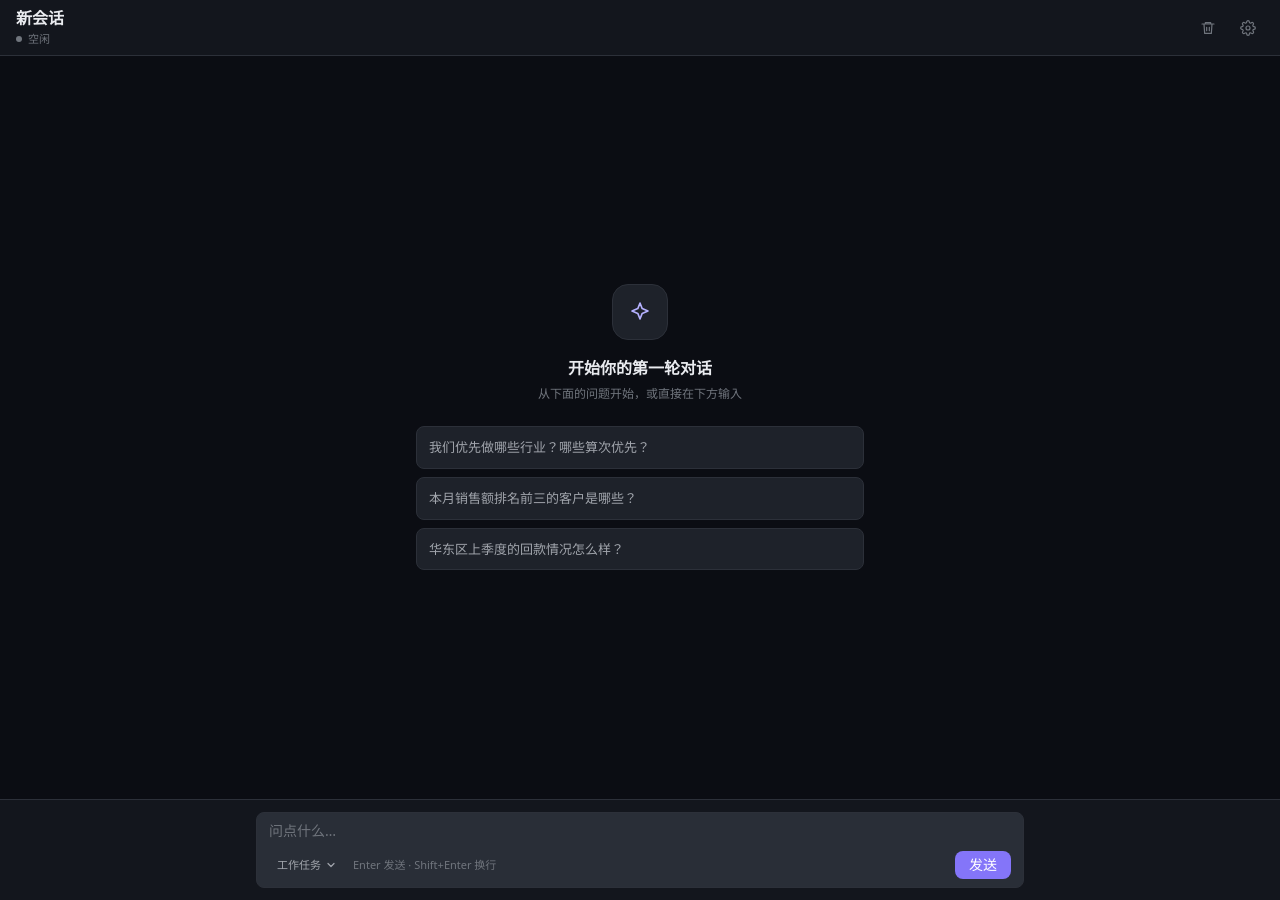
Scenario: ChatPage › 发送后会话标题取自首条用户消息
The width and height of the screenshot is (1280, 900).
Step 1. Type "行业优先级" into the text box with placeholder "问点什么…" → (640, 831), box left=269, top=821, right=1011, bottom=841
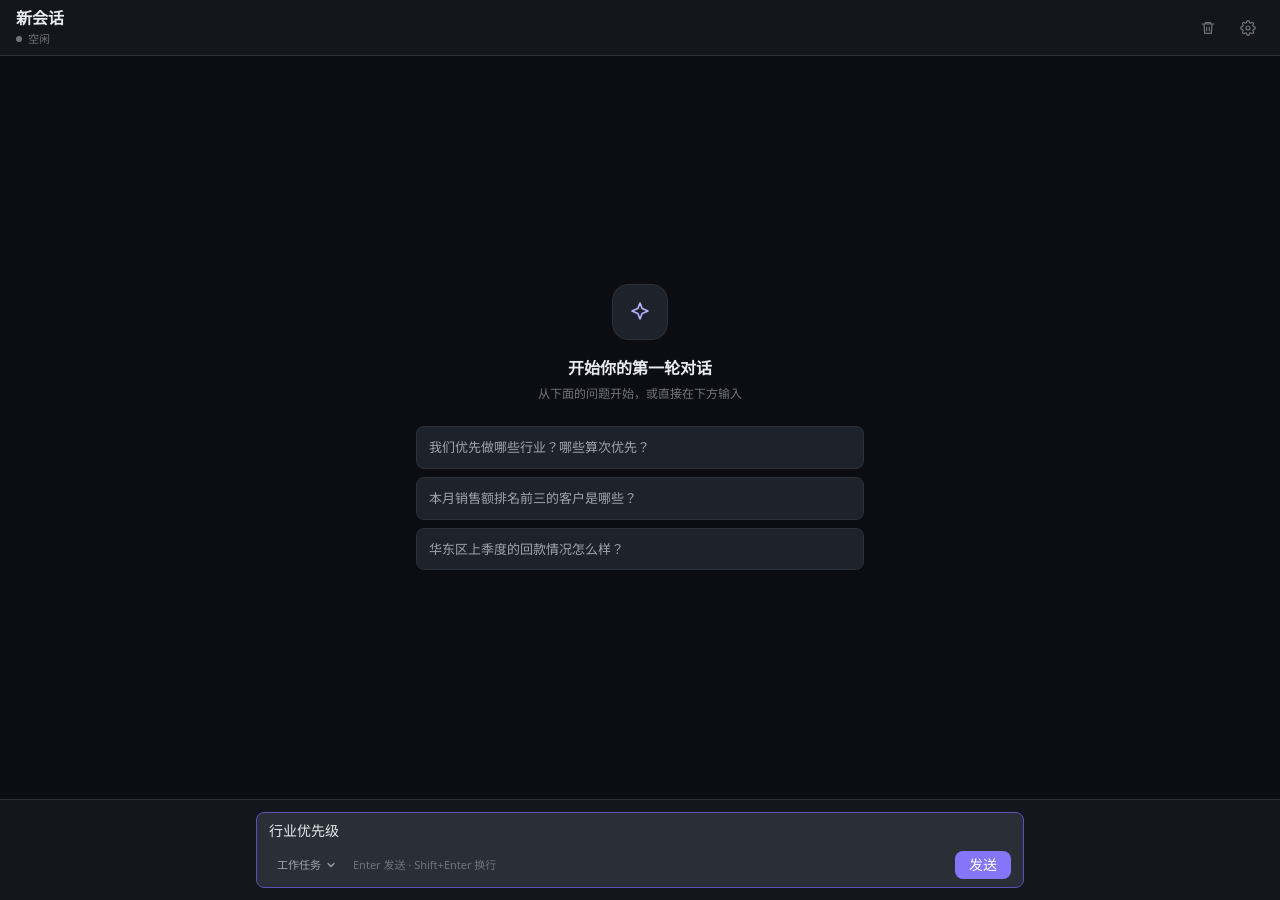
Step 2. Click the button "发送" → (983, 865), box left=955, top=851, right=1011, bottom=879
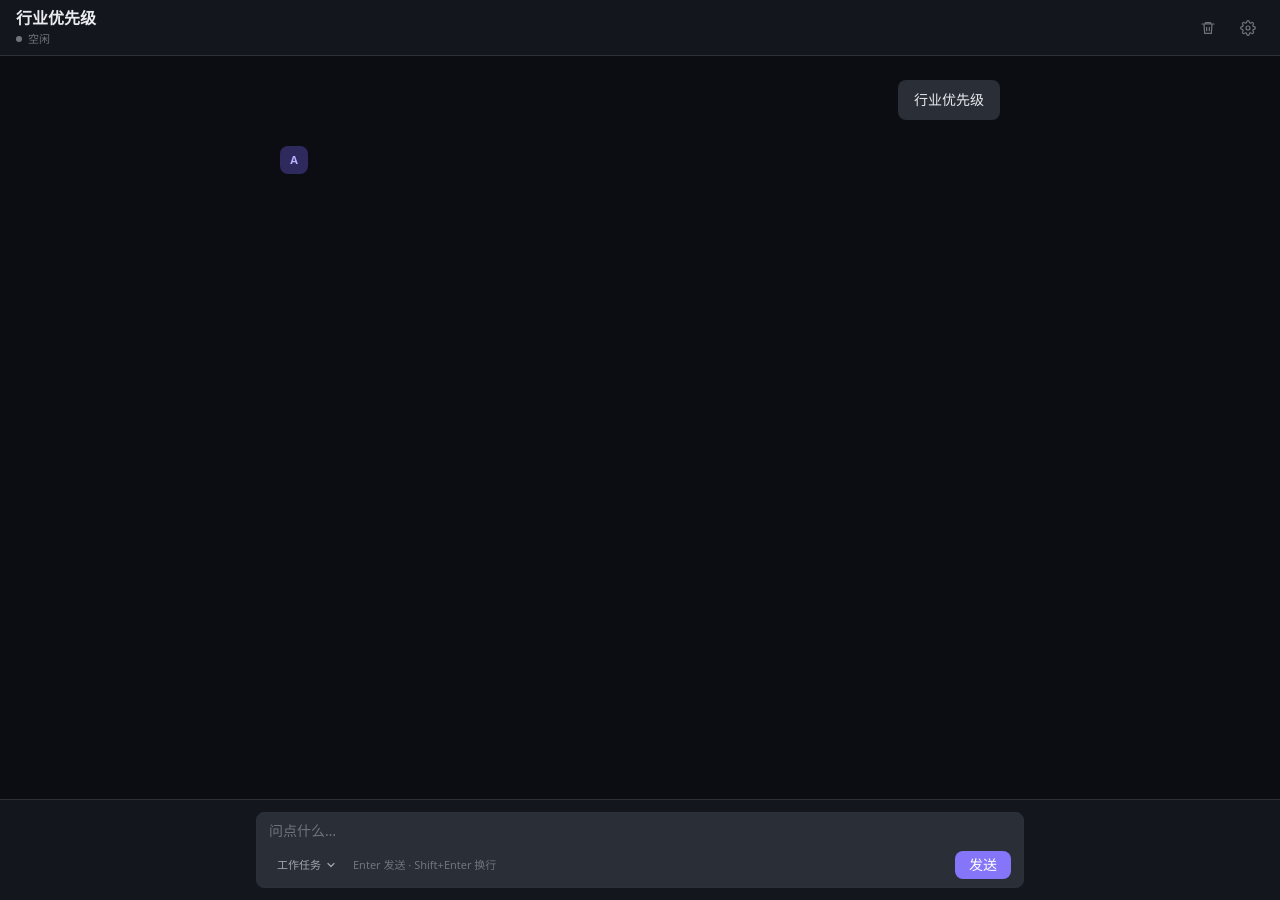
Expected: the 1st text "行业优先级" is shown, left=16, top=7, right=96, bottom=29
